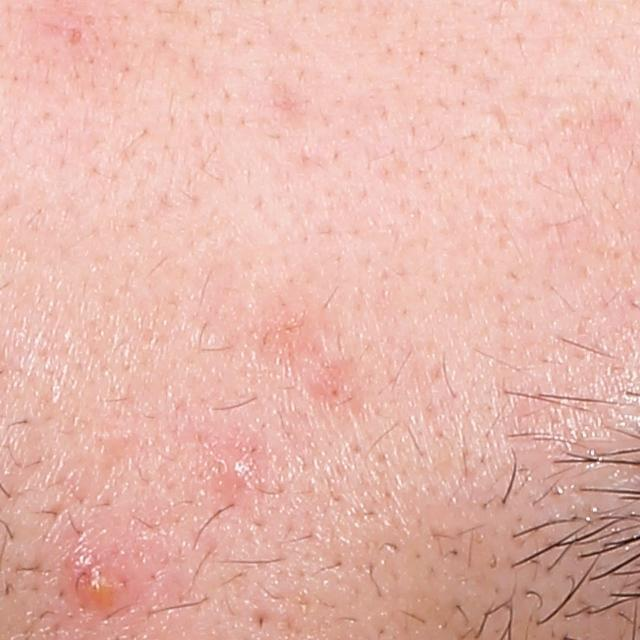atrophic_scar: (482, 100, 513, 127)
papule: (62, 549, 125, 612), (220, 441, 269, 499)
